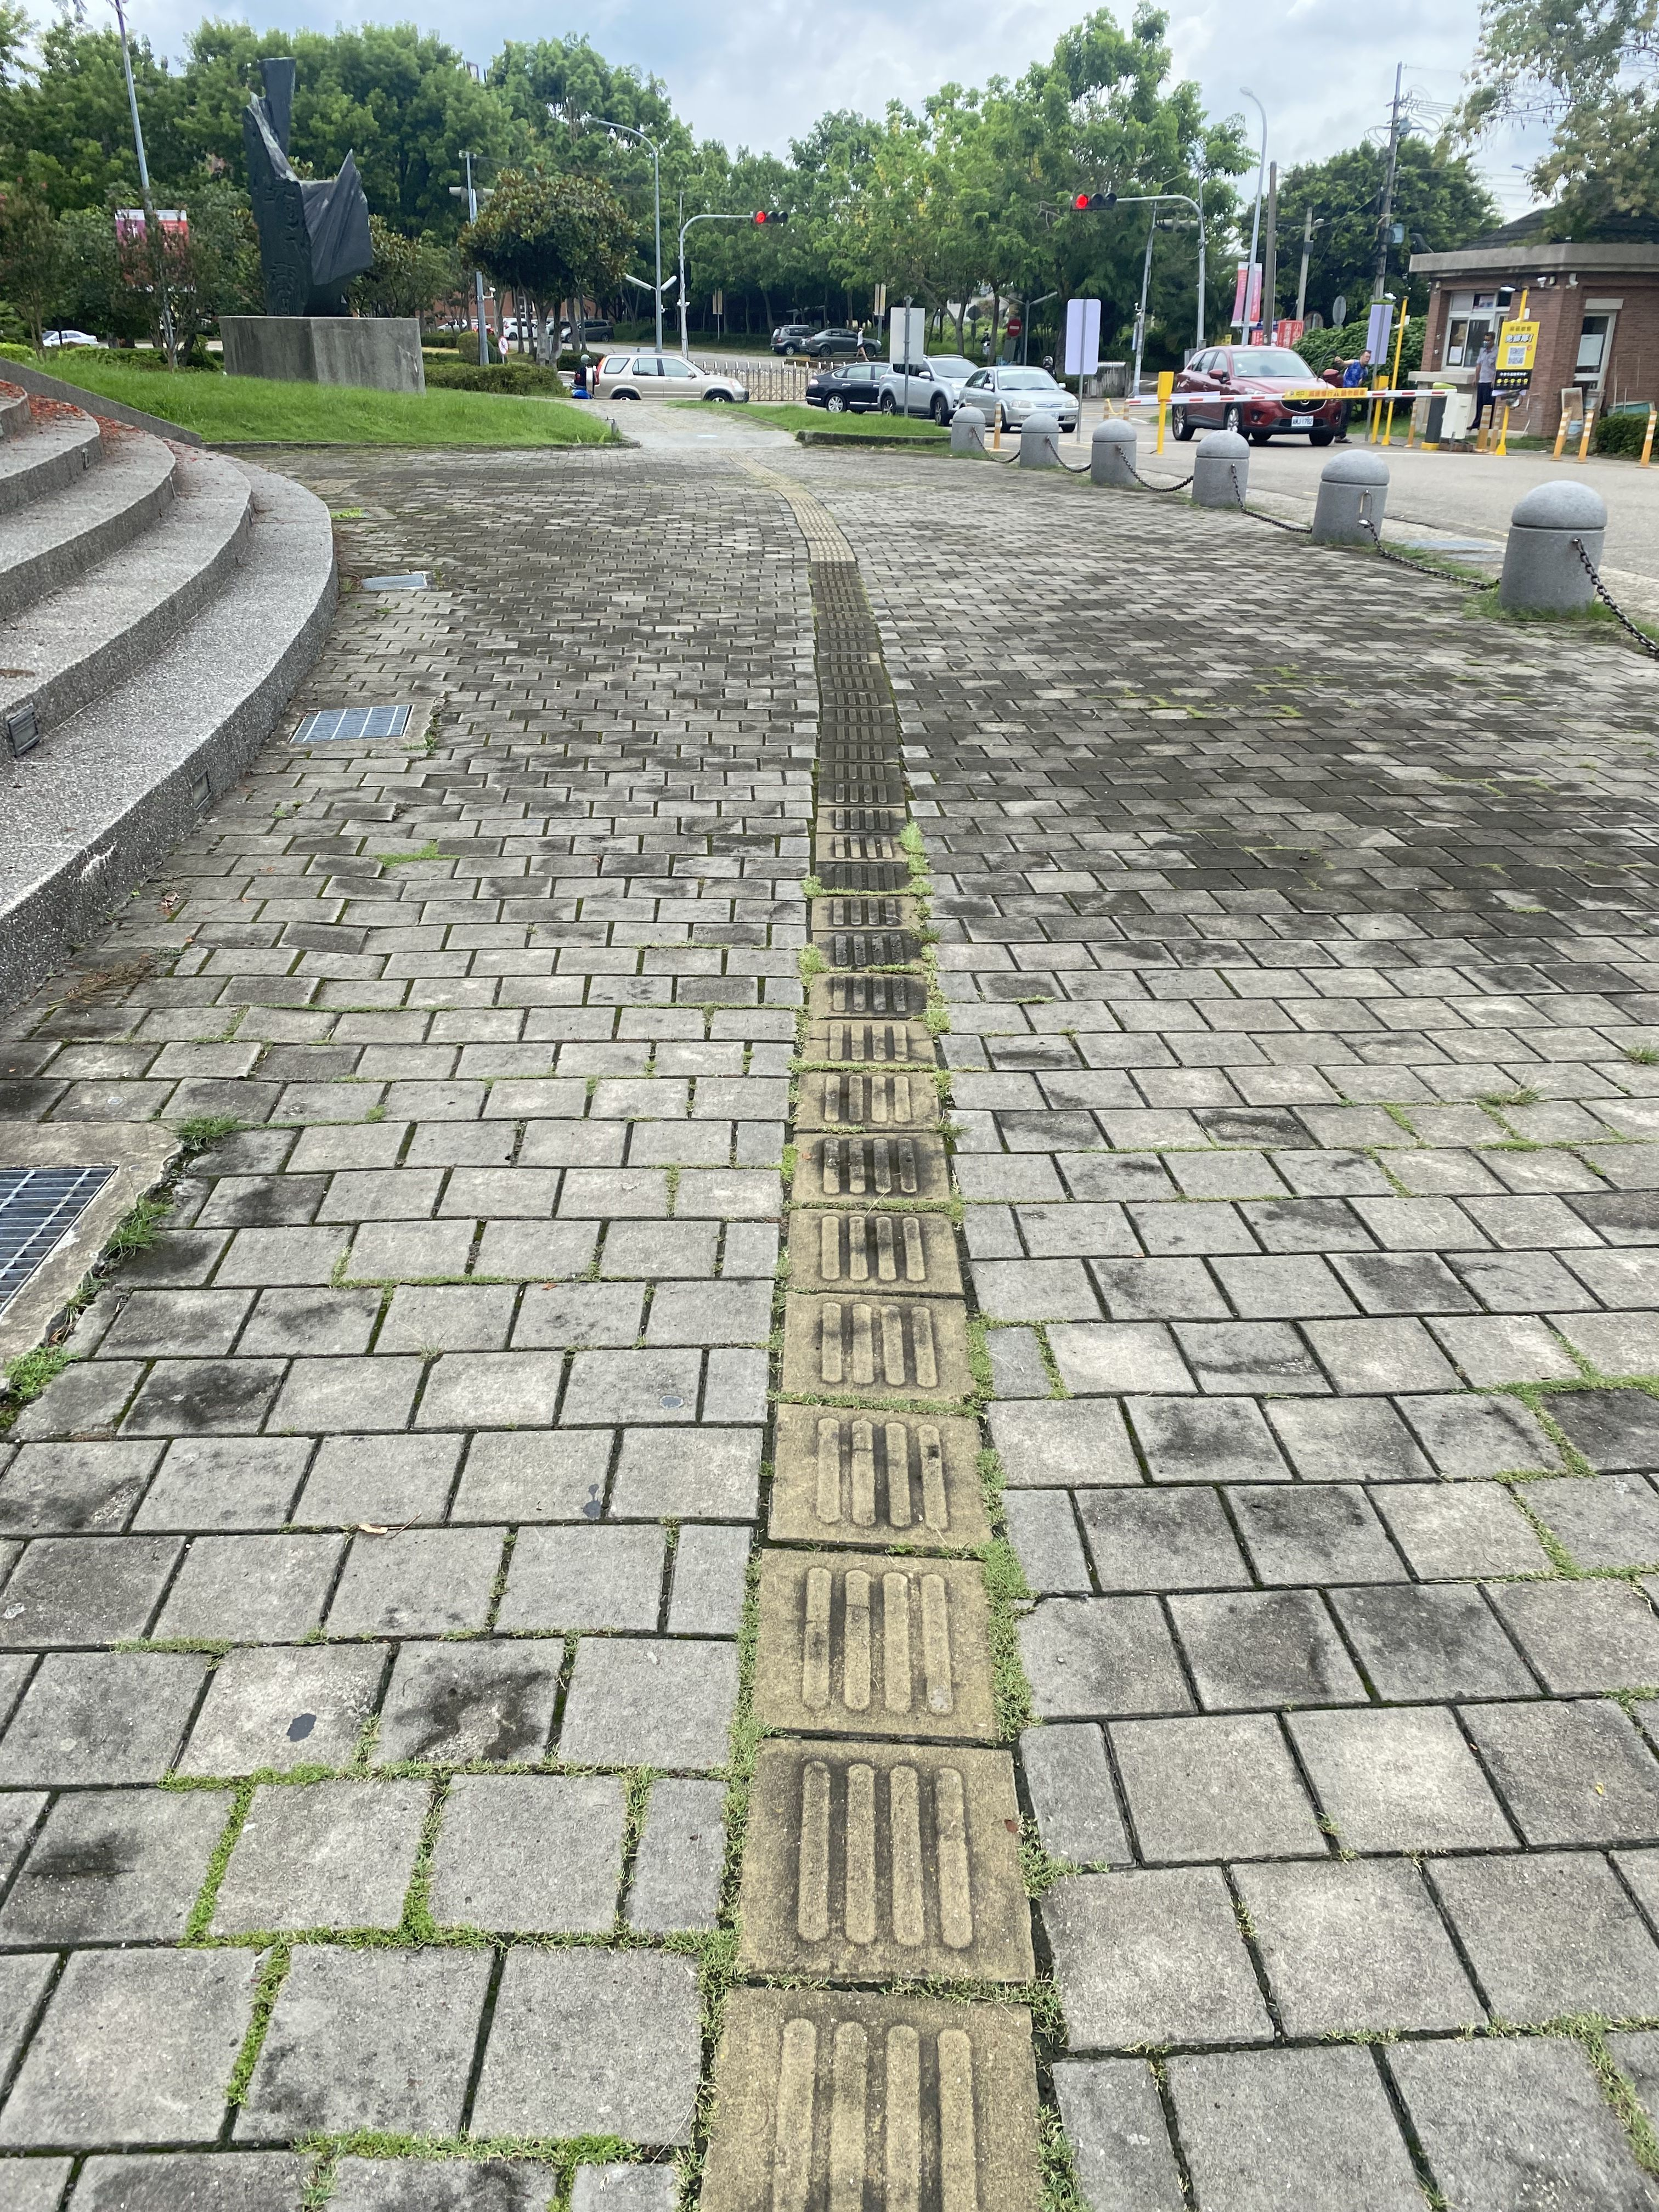sidewalk: (5, 416, 1659, 2212)
